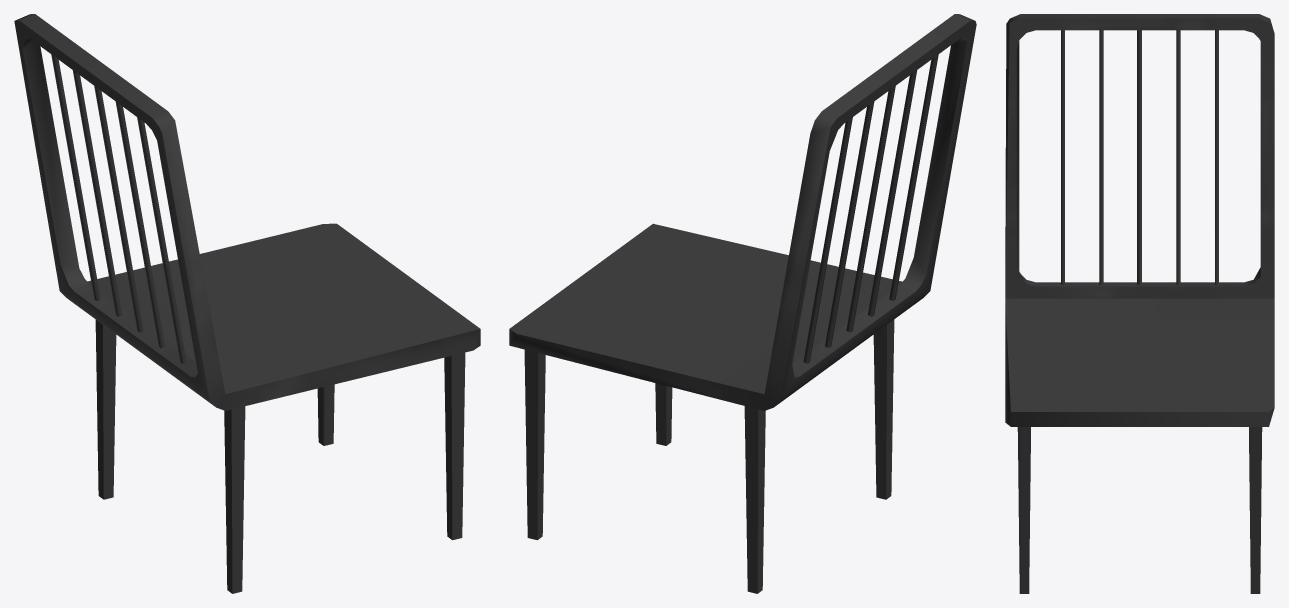
File: bw-int-chair.lod1.glb
The picture shows the model from 3 angles, left to right: view 1: azimuth 30°, elevation 25°; view 2: azimuth 150°, elevation 25°; view 3: azimuth 270°, elevation 25°; orthographic projection. The views are drawn at different scales.
Visible parts, largest first — view 1: chair_1_texture_2_0; view 2: chair_1_texture_2_0; view 3: chair_1_texture_2_0.
Part boxes in pixels (x1,y1,x2,y2): chair_1_texture_2_0: [14, 14, 480, 593]; chair_1_texture_2_0: [509, 14, 976, 593]; chair_1_texture_2_0: [1005, 14, 1274, 593].
Size of the model in its own units: 0.6445 by 0.95 by 0.5191.
1 material, 1 textured.
